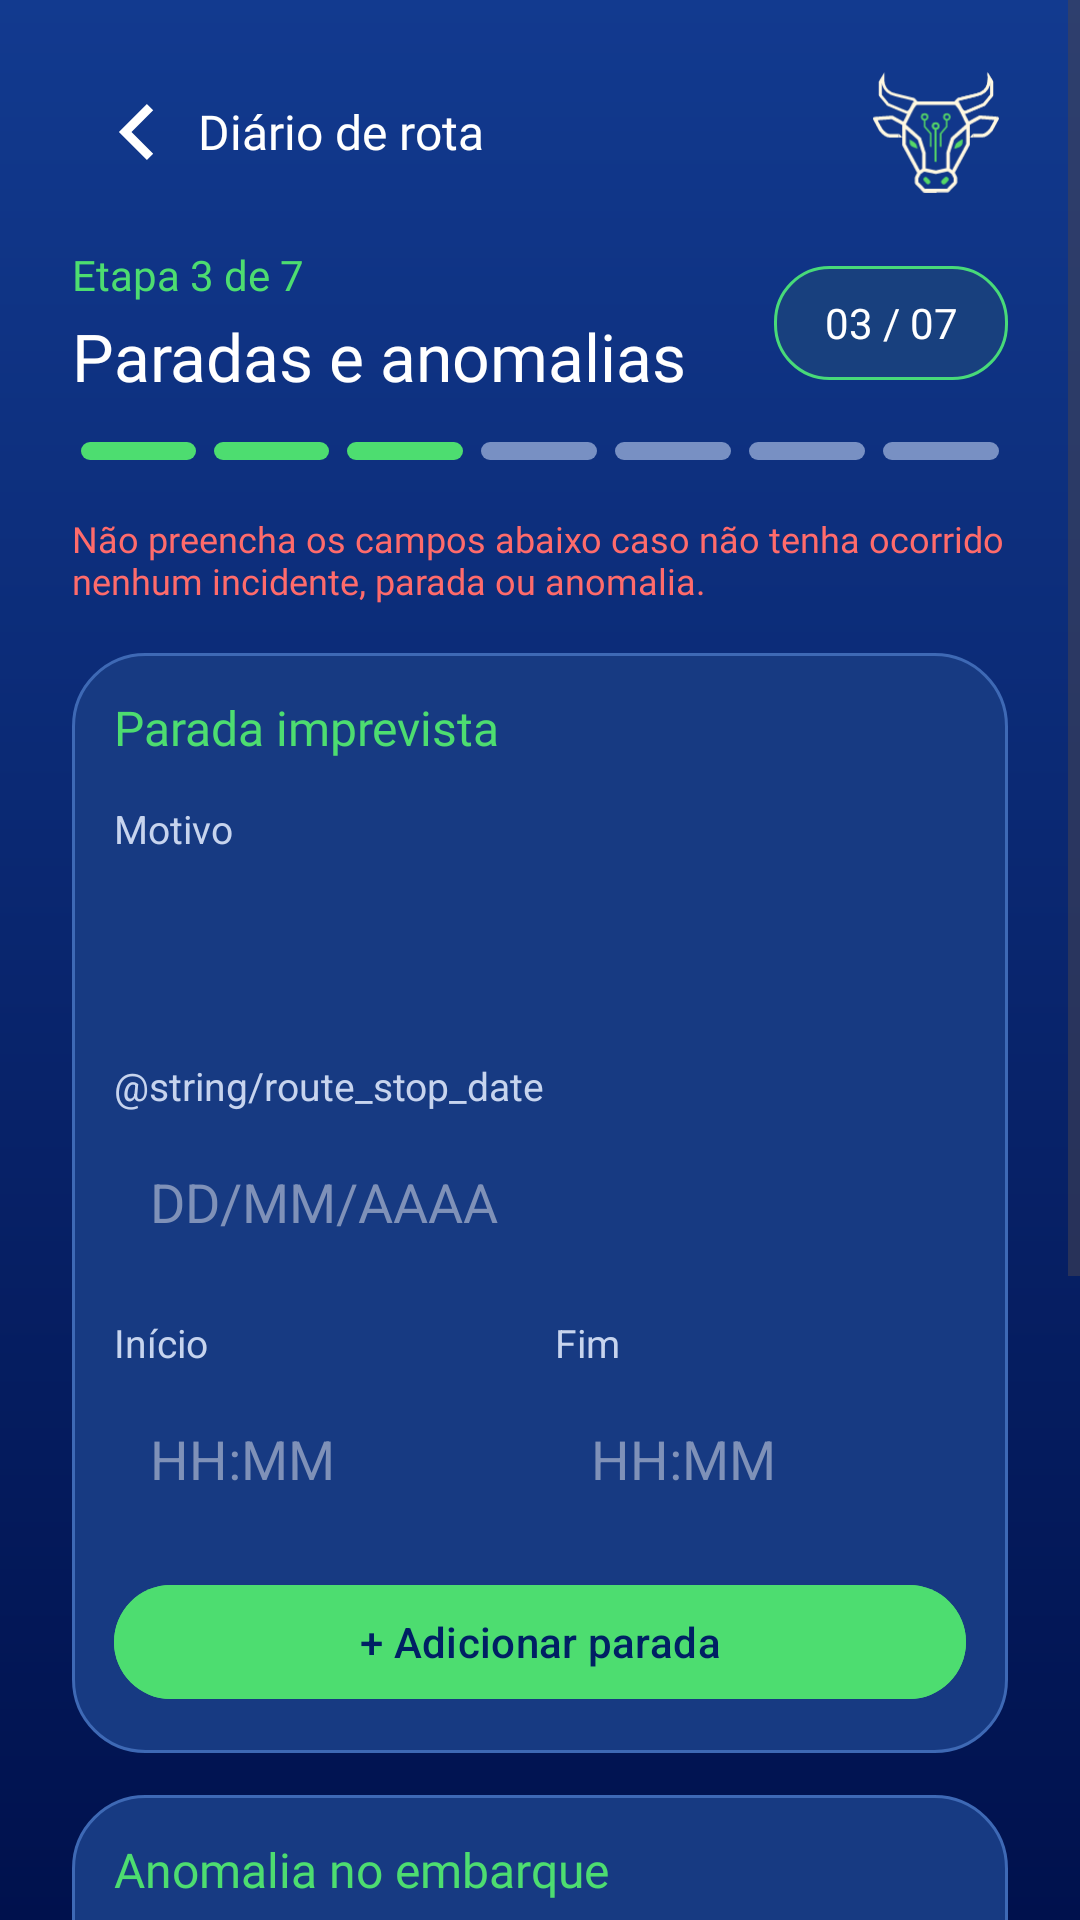

Where icons sit on this 1080px×1920px app screen, as (x1, y1, x2, y2):
Voltar: (119, 104, 153, 160)
